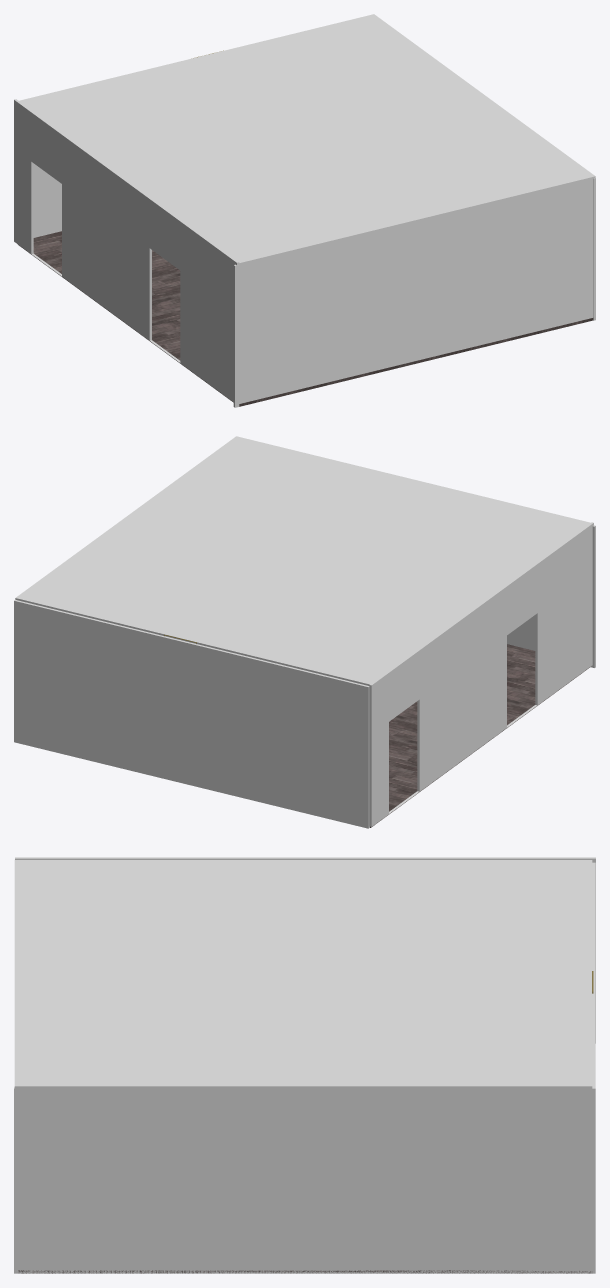
Rendered from Stage.fbx.
3 renders of one model, top to bottom at view 1: azimuth 30°, elevation 25°; view 2: azimuth 150°, elevation 25°; view 3: azimuth 270°, elevation 25°, orthographic. The views are drawn at different scales.
Visible parts, largest first — view 1: tenjyou, Right_wall, back_wall, pCube1, left_wall; view 2: tenjyou, left_wall, back_wall, pCube1, Right_wall; view 3: tenjyou, flont_wall, back_wall, left_wall, pCube1, Right_wall.
Boxes of the visible parts, <box> form: tenjyou: <box>19,14,595,265</box>; Right_wall: <box>233,179,593,407</box>; back_wall: <box>14,99,239,401</box>; pCube1: <box>18,231,593,406</box>; left_wall: <box>33,163,61,237</box>; tenjyou: <box>15,436,590,685</box>; left_wall: <box>14,600,369,828</box>; back_wall: <box>369,522,593,826</box>; pCube1: <box>370,644,589,827</box>; Right_wall: <box>507,525,595,667</box>; tenjyou: <box>14,860,592,1089</box>; flont_wall: <box>14,1087,592,1273</box>; back_wall: <box>15,857,595,1043</box>; left_wall: <box>592,862,595,1273</box>; pCube1: <box>18,1270,590,1273</box>; Right_wall: <box>14,1088,18,1273</box>.
Size of the model in its own units: 25.41 by 9.73 by 27.26.
8 materials, 1 textured.
